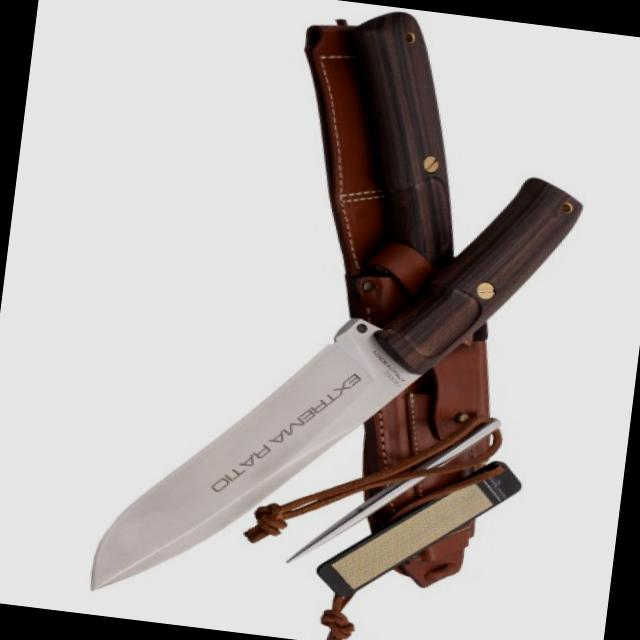knife: (80, 295, 422, 631)
